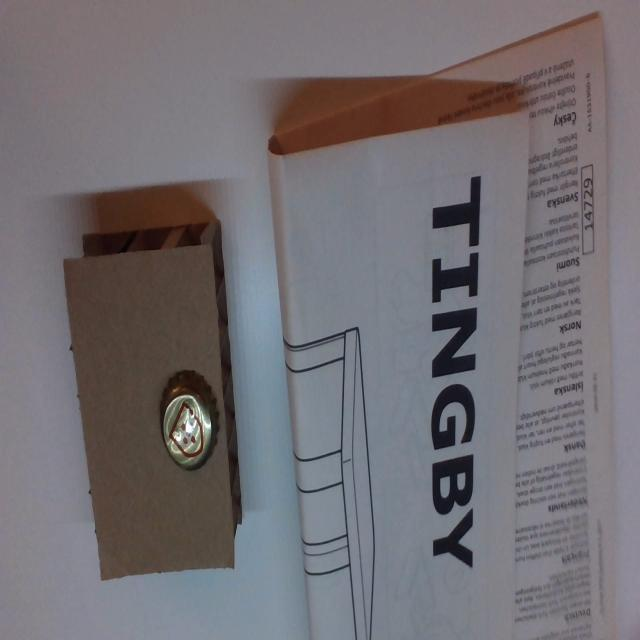Cardboard: (60, 216, 247, 586)
Paper: (266, 17, 623, 639)
